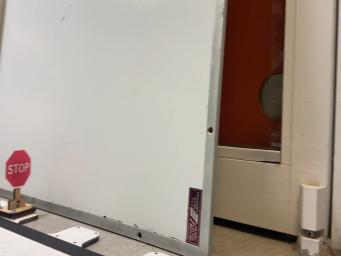stop: (0, 149, 36, 220), (0, 149, 36, 220), (0, 149, 36, 220), (0, 149, 36, 220), (0, 149, 36, 220), (0, 149, 36, 220)
street: (0, 217, 101, 256), (0, 217, 101, 256), (0, 217, 101, 256), (0, 217, 101, 256), (0, 217, 101, 256), (0, 217, 101, 256)
